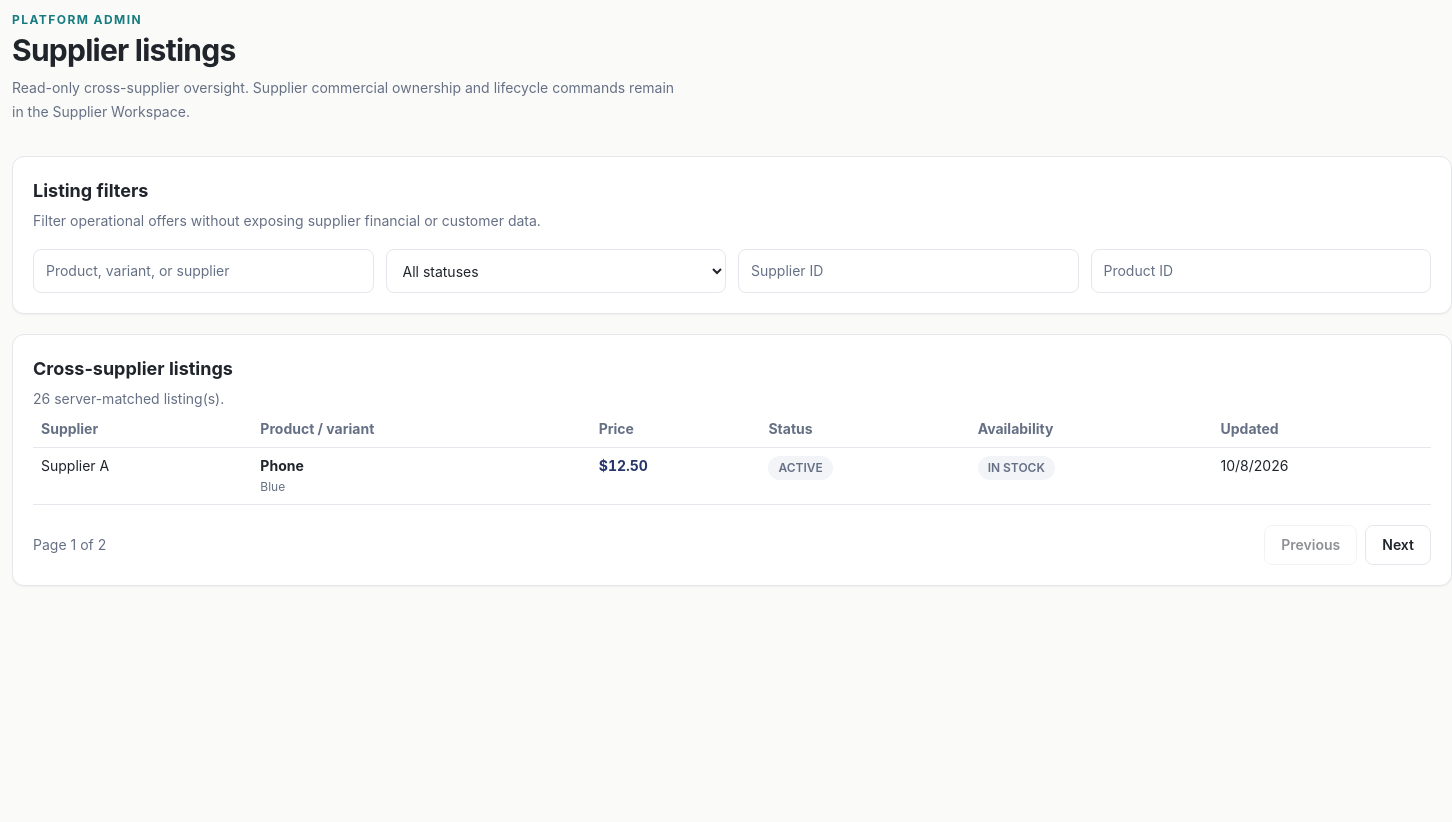
Test: PlatformWorkspace listings › uses the dedicated platform listing contract for filters and pagination
Expected: the text "Supplier A" is shown, [33, 448, 252, 504]
Type "phone" into the field named "Search listings".
click(203, 271); type("phone")  # box [33, 249, 374, 293]
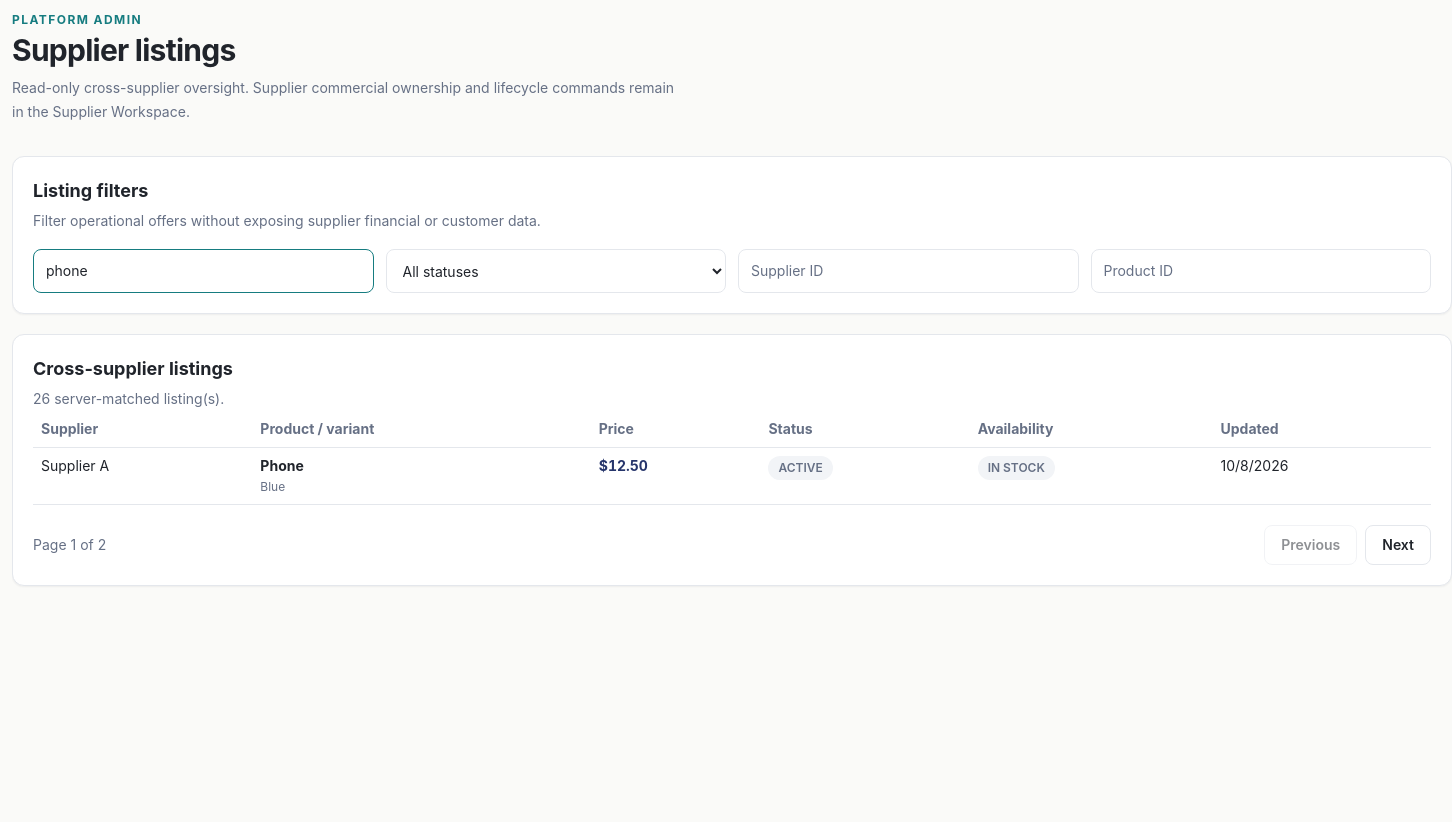
Select "Active" in the dropdown named "Listing status" at (556, 271), box [386, 249, 726, 293]
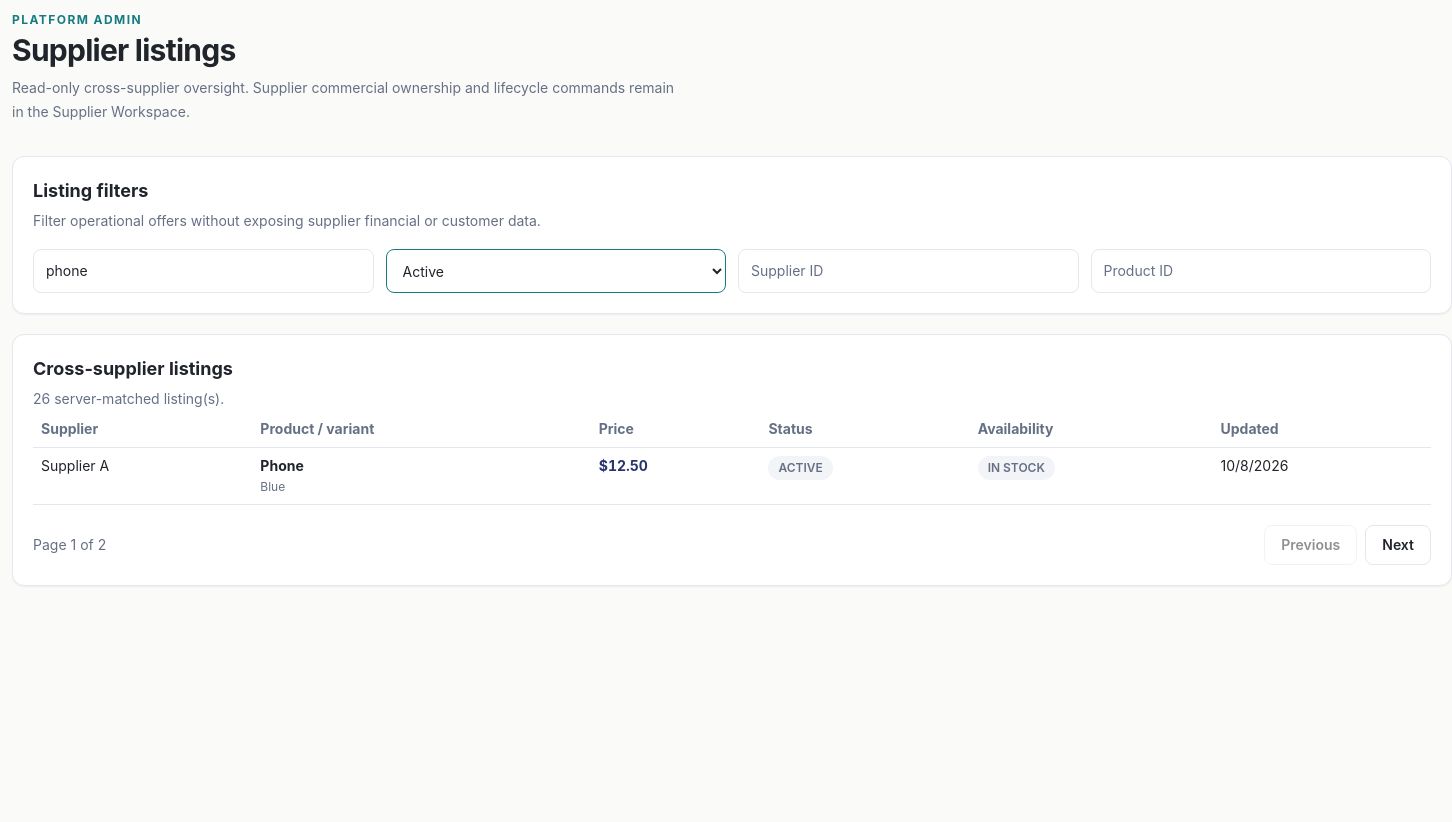
Click the button "Next".
click(1398, 545)  # box [1365, 525, 1431, 565]
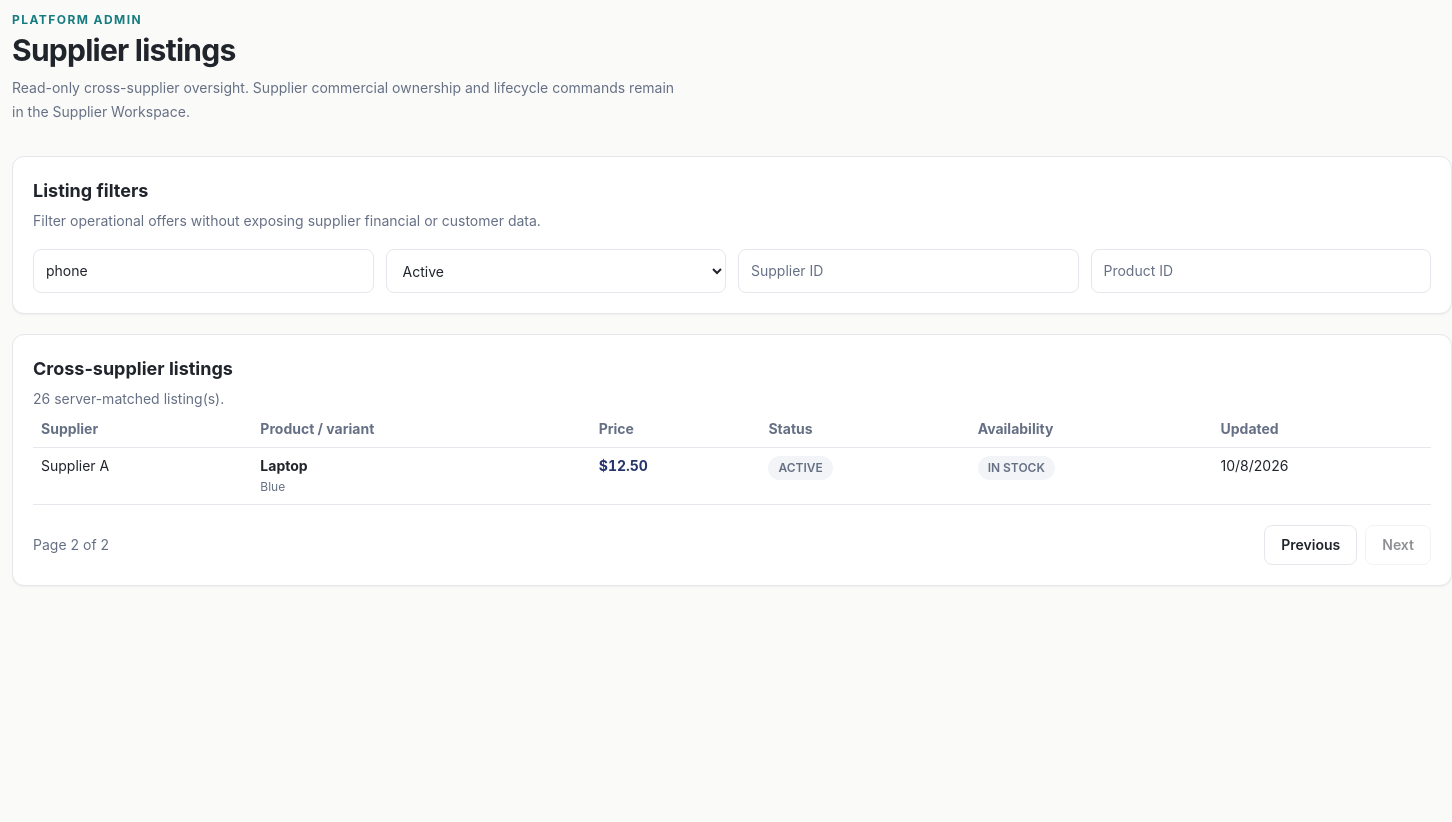
Expected: the text "Laptop" is shown, [260, 457, 308, 474]
